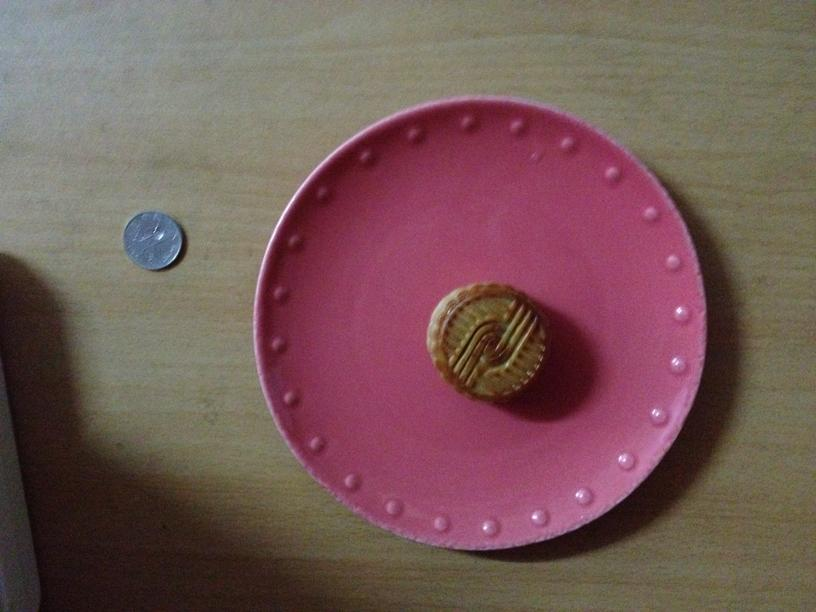coin: (119, 211, 184, 272)
mooncake: (427, 283, 550, 402)
